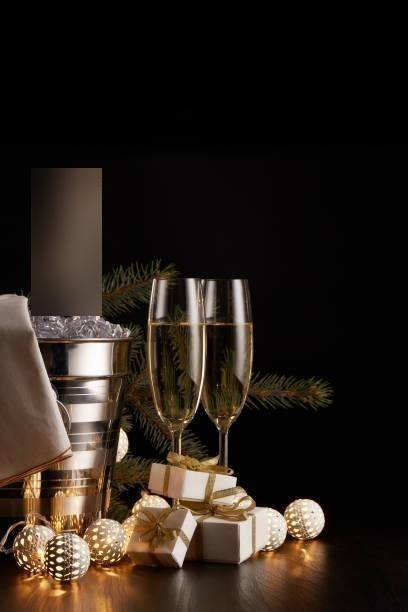glass-wine: (146, 274, 205, 460), (198, 271, 249, 473)
